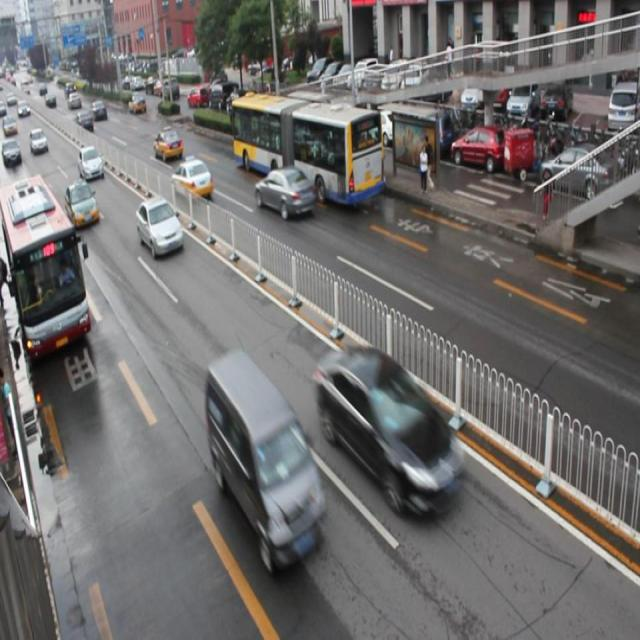car: (314, 344, 462, 516), (254, 166, 314, 217), (136, 197, 183, 257), (171, 158, 212, 200), (66, 182, 97, 225), (153, 128, 183, 160), (78, 147, 105, 182)
truck: (205, 351, 326, 572)
van: (230, 90, 383, 204), (1, 176, 92, 356)
